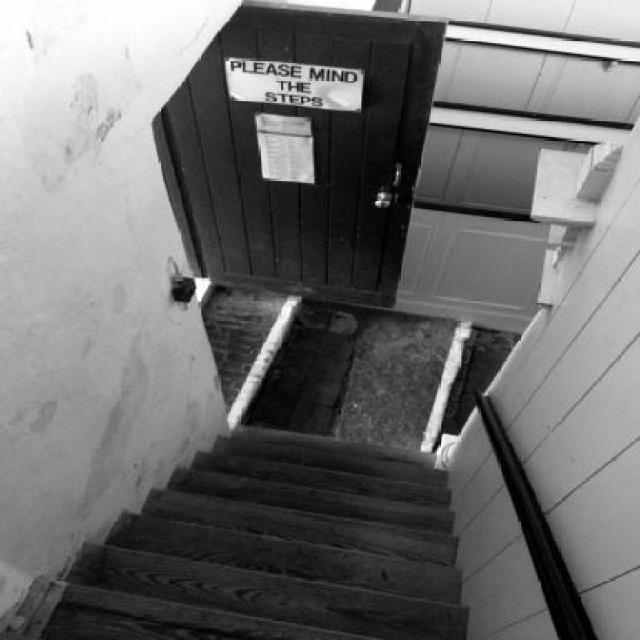stair: (17, 417, 468, 640)
